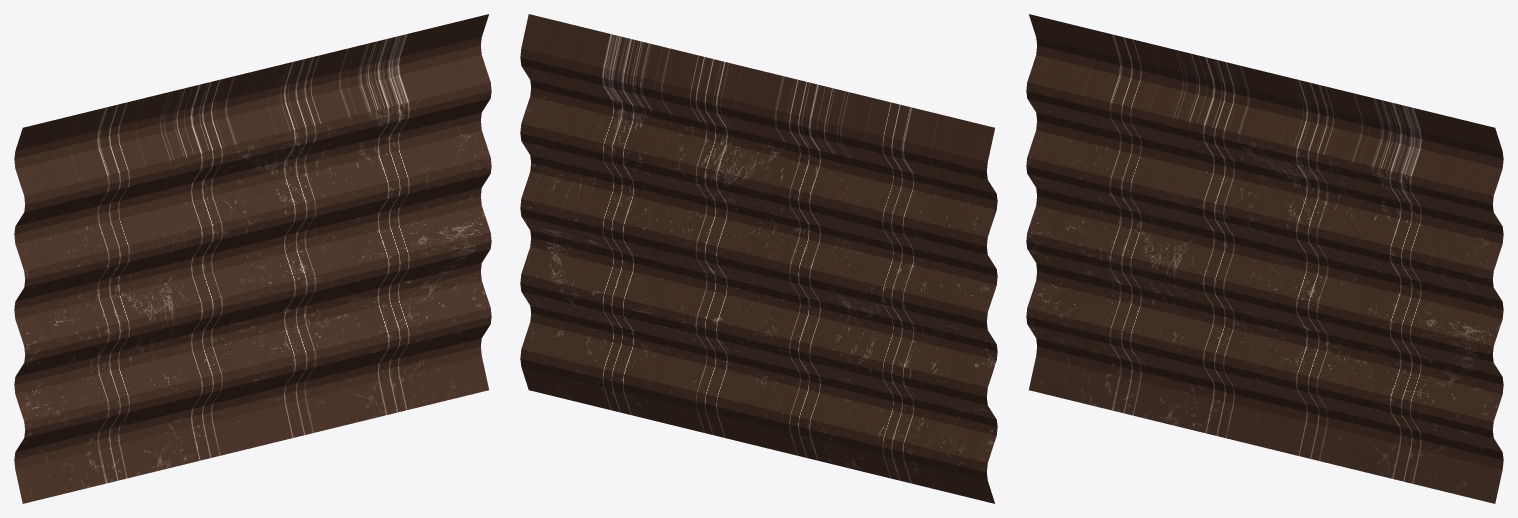
File: Bend2_BlueDark.gltf
3 renders of one model, left to right at view 1: azimuth 30°, elevation 25°; view 2: azimuth 150°, elevation 25°; view 3: azimuth 330°, elevation 25°, orthographic.
Visible parts, largest first — view 1: Plane.008; view 2: Plane.008; view 3: Plane.008.
Boxes of the visible parts, x1,y1,x2,y2 form: Plane.008: (14,14,491,503); Plane.008: (520,14,997,503); Plane.008: (1026,14,1503,503).
Bounding box in the file's own units: 2.22 × 1.71 × 0.0888.
